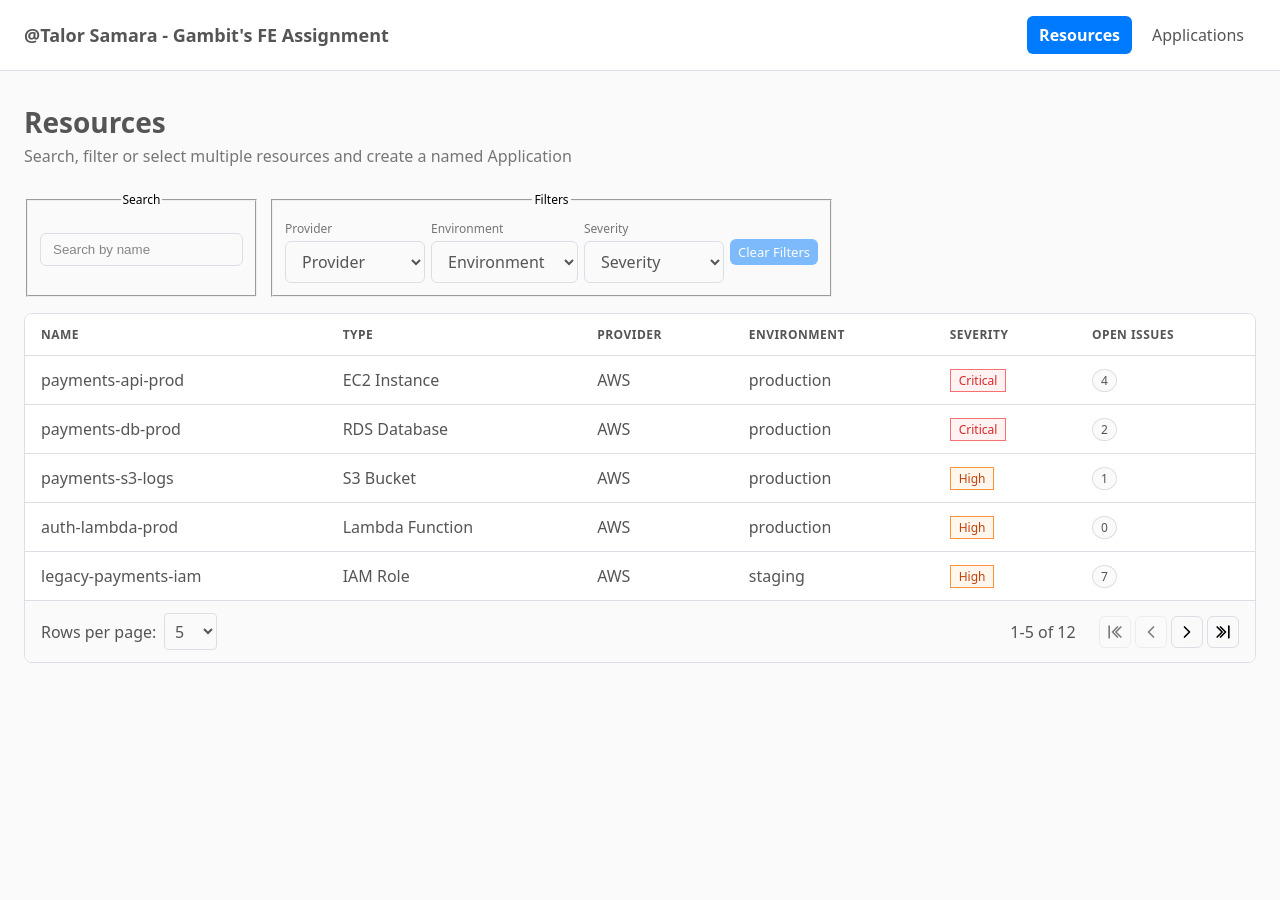
Test case: ResourcesPage › should open the Application modal from the selection bar
Click the row "payments-api-prod EC2 Instance AWS production critical 4" at (640, 380), box [25,356,1255,404]
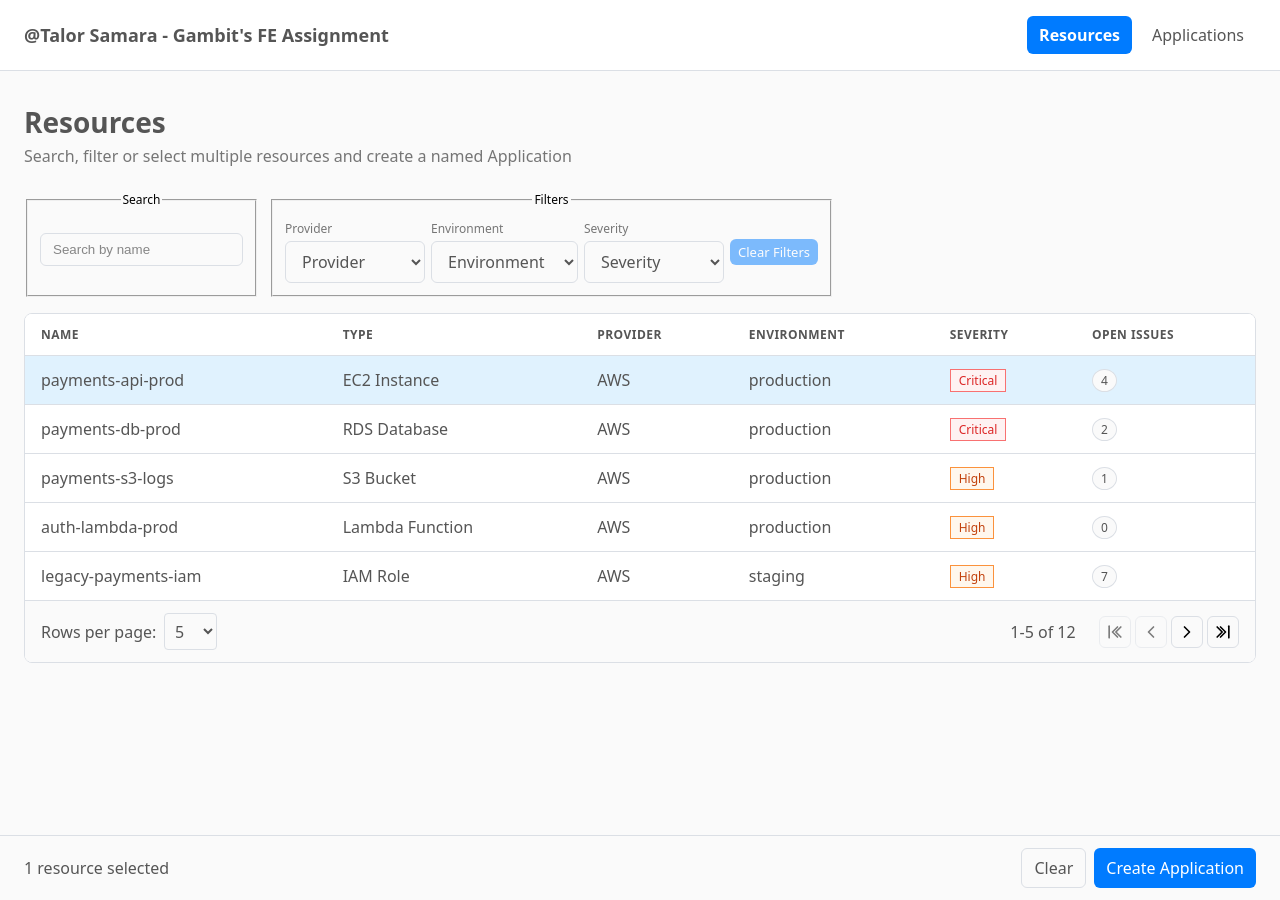
Click the button "Create Application" at (1175, 868), box [1094,848,1256,888]
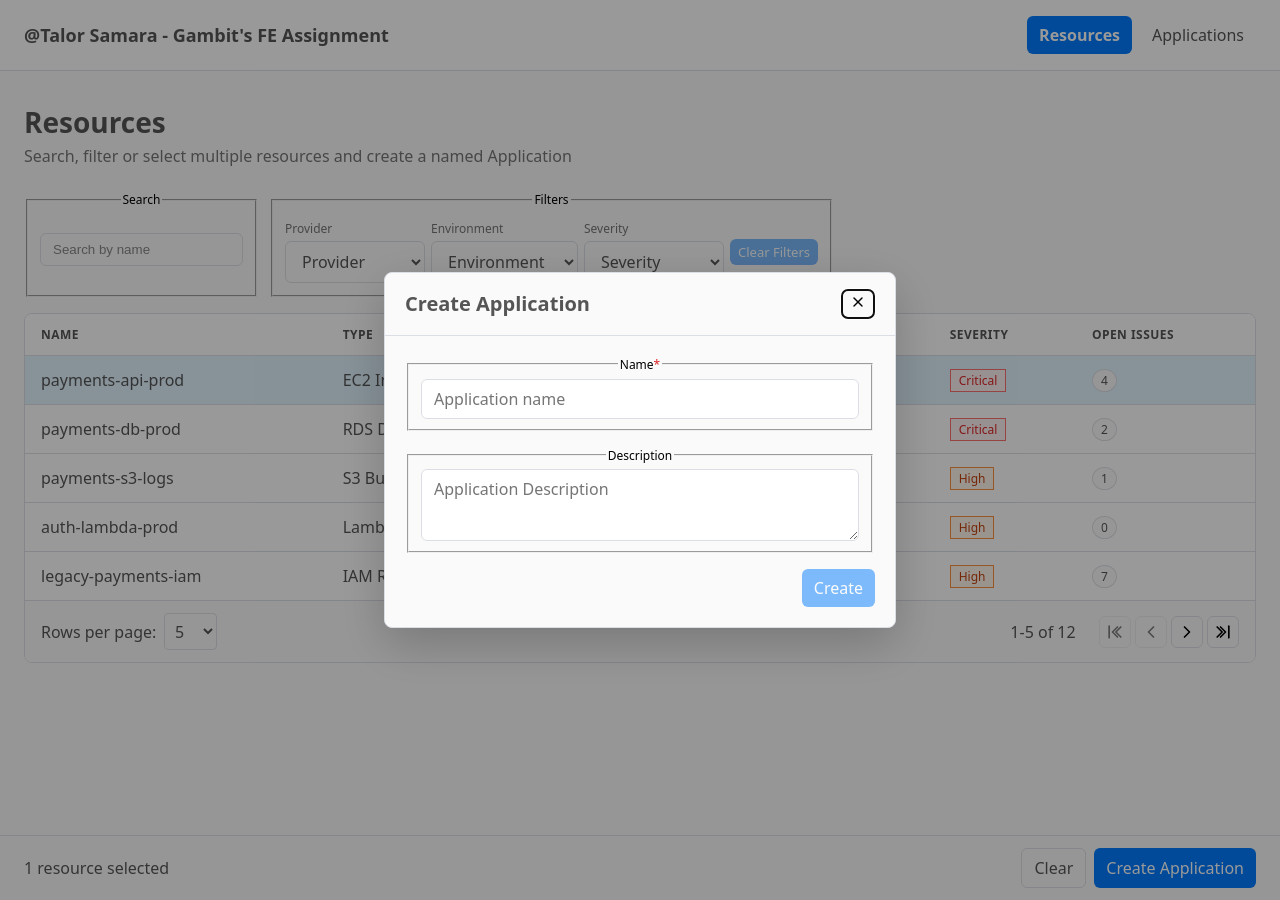
Expected: the heading "Create Application" is shown, [405,290,590,317]
